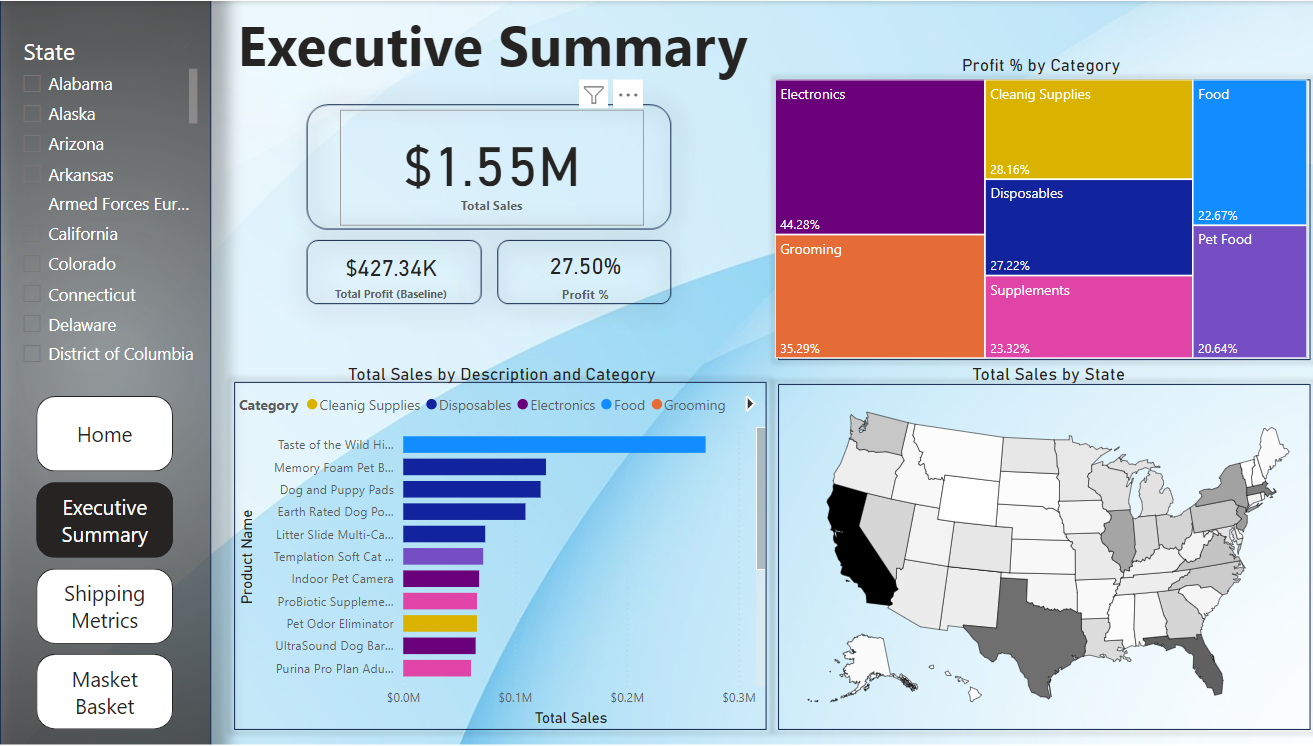

The page's visual inventory and layout, read from the dashboard file:
{"tool":"powerbi","page":{"name":"Executive Summary","canvas":[1280,720],"ordinal":5},"visuals":[{"type":"shapeMap","title":"Total Sales by State","fields":{"Category":["State Mapping.State"],"Value":["Sum(Sales.Sales)"]},"box":[749.2,349.9,526,354.7],"z":0},{"type":"card","fields":{"Values":["_Measures.Profit %"]},"box":[475.3,232.8,179.8,61.5],"z":1000},{"type":"card","fields":{"Values":["Sum(Sales.Sales)"]},"box":[328.2,105,293.2,112.2],"z":2000},{"type":"card","fields":{"Values":["Sum(Sales.Profit (Baseline))"]},"box":[311.3,234,132.7,60.3],"z":3000},{"type":"barChart","title":"Total Sales by Description and Category","fields":{"Category":["Products.Description"],"Y":["Sum(Sales.Sales)"],"Series":["Products.Category"]},"box":[225.6,349.9,517.6,354.7],"z":4000},{"type":"treemap","fields":{"Group":["Products.Category","Products.Description"],"Values":["_Measures.Profit %"]},"box":[743.2,51.9,523.6,298],"z":5000},{"type":"textbox","box":[207.5,0,535.7,82],"z":6000},{"type":"pageNavigator","box":[35,381.2,132.7,323.3],"z":7000},{"type":"slicer","fields":{"Values":["State Mapping.State"]},"box":[9.7,27.7,185.8,331.8],"z":8000}]}

Visuals, with their boxes in screenshot pixels (x1, y1, x2, y2), scaled from the page's 1280x720 canvas onto the 1313x746 screenshot:
"Total Sales by State" shapeMap: 769:363:1308:730
card - _Measures.Profit %: 488:241:672:305
card - Sum(Sales.Sales): 337:109:637:225
card - Sum(Sales.Profit (Baseline)): 319:242:455:305
"Total Sales by Description and Category" barChart: 231:363:762:730
treemap - Products.Category x Products.Description: 762:54:1299:363
textbox: 213:0:762:85
pageNavigator: 36:395:172:730
slicer - State Mapping.State: 10:29:201:372
